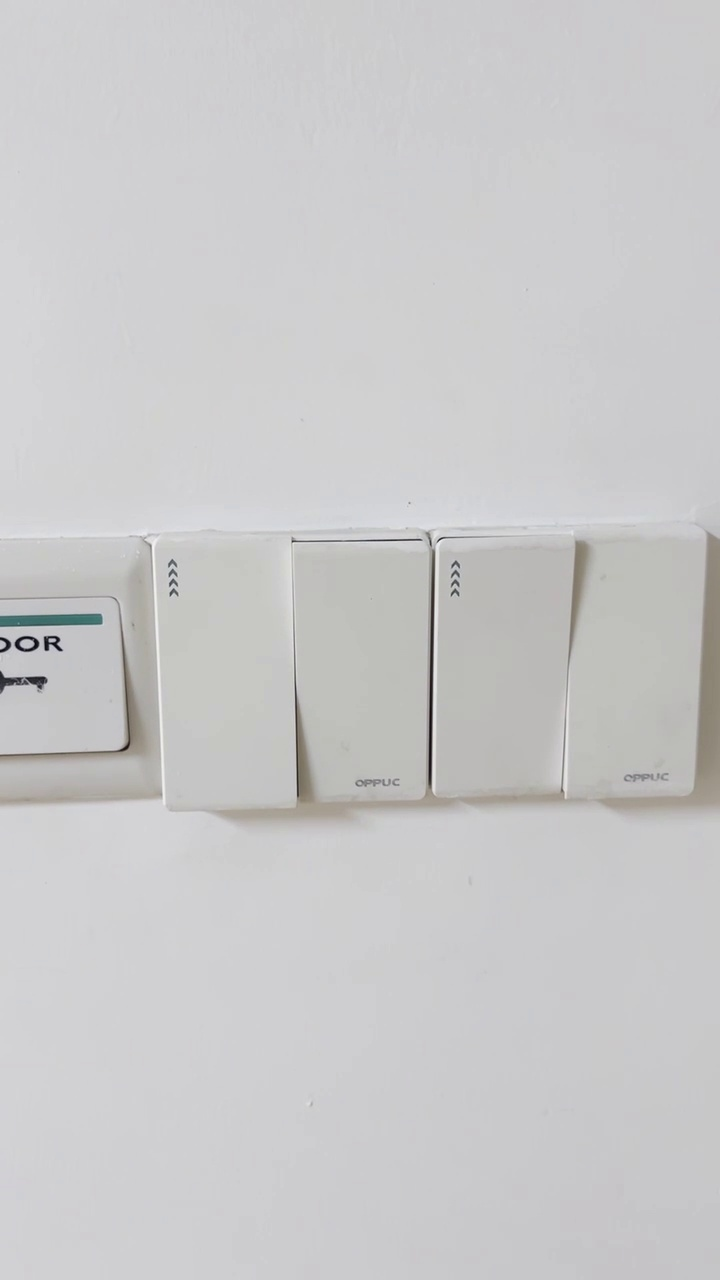button1: (159, 537, 295, 811), (436, 540, 570, 801), (569, 530, 699, 795), (299, 549, 427, 796)
